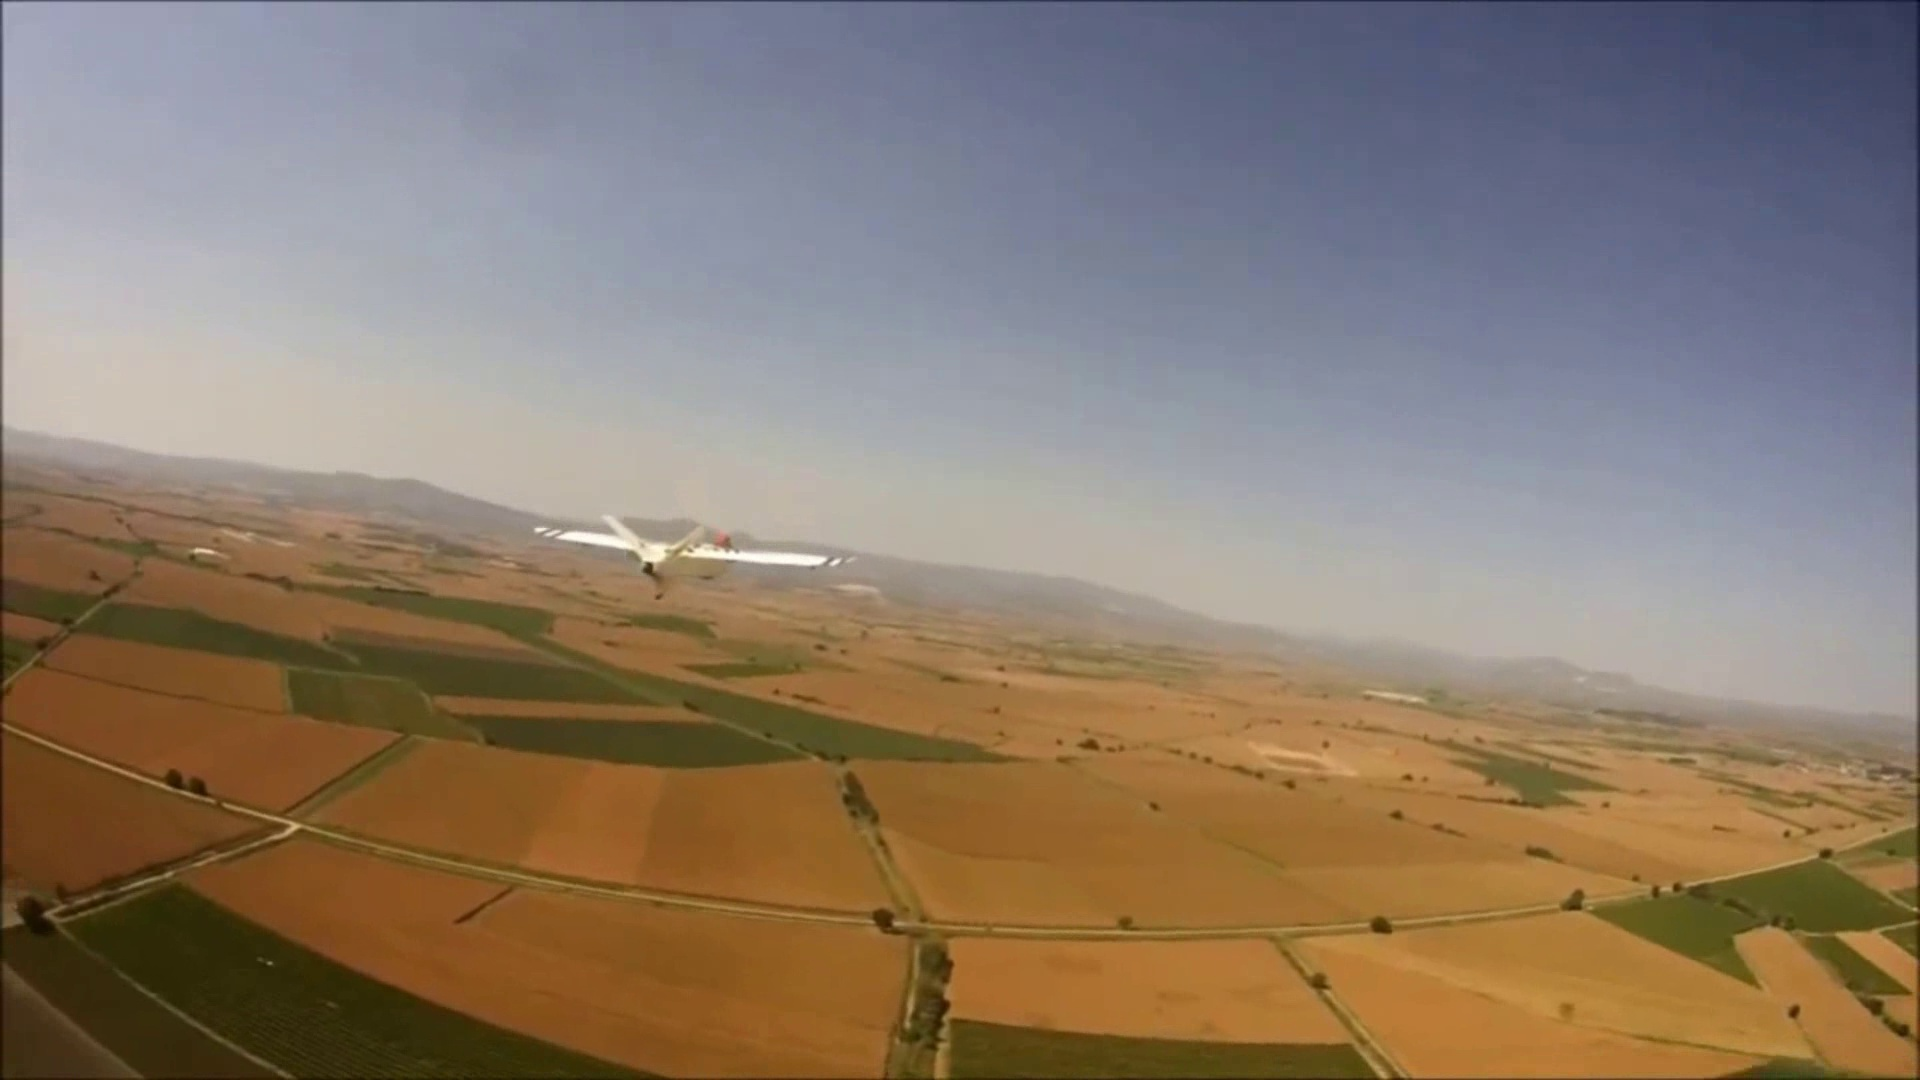airplane: (533, 512, 848, 593)
